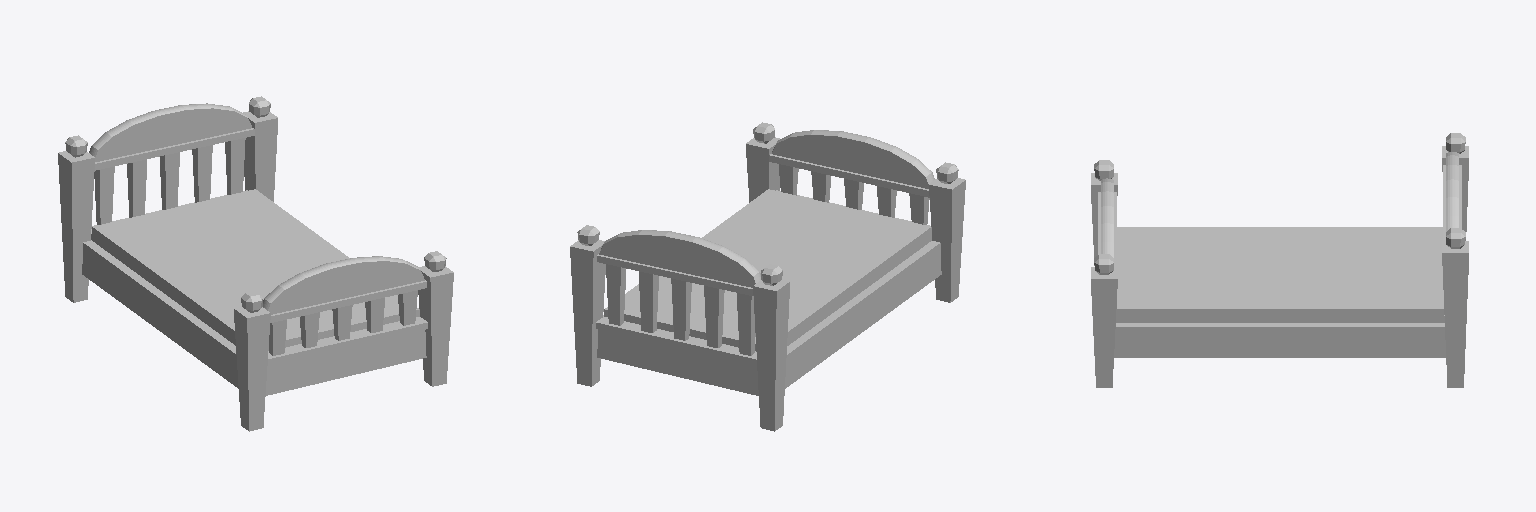
Rendered from bed2.obj.
3 views of the same model, side by side, from view 1: azimuth 30°, elevation 25°; view 2: azimuth 150°, elevation 25°; view 3: azimuth 270°, elevation 25° (orthographic).
Parts seen in each view (by area): view 1: Beds_SO0; view 2: Beds_SO0; view 3: Beds_SO0.
Part boxes in pixels (left/top/right/bottom): Beds_SO0: left=58, top=96, right=453, bottom=431; Beds_SO0: left=570, top=122, right=965, bottom=431; Beds_SO0: left=1091, top=133, right=1468, bottom=387.
Size of the model in its own units: 3.27 by 2.55 by 5.19.